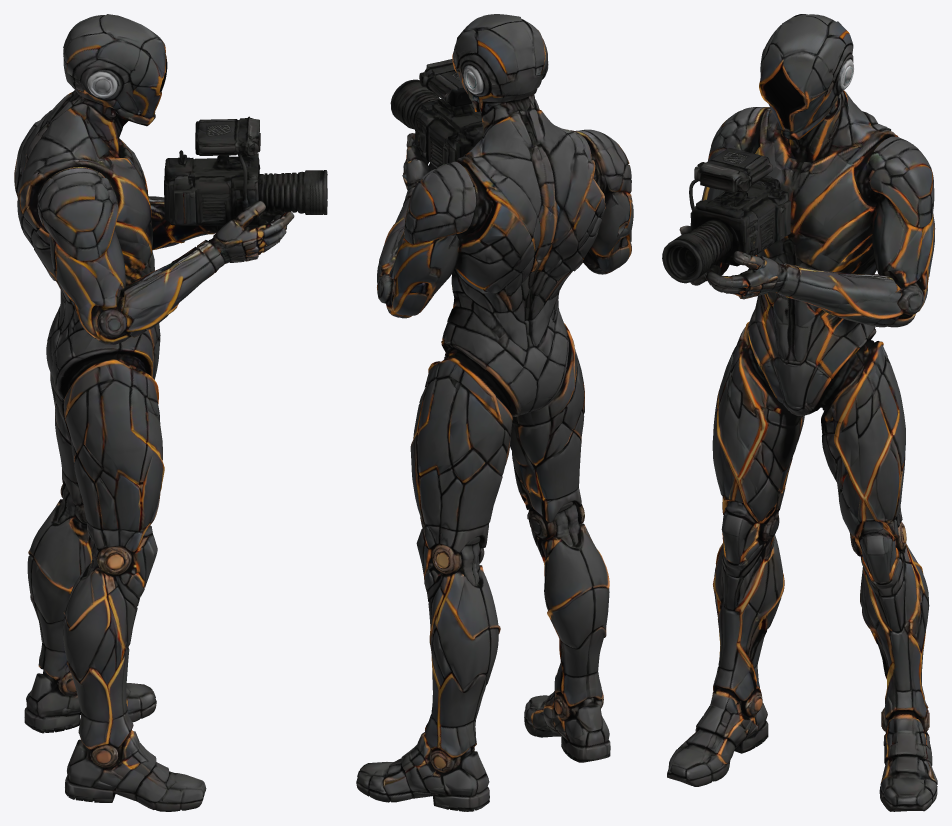
The model's file is robot.glb.
3 views of the same model, side by side, from view 1: azimuth 30°, elevation 25°; view 2: azimuth 150°, elevation 25°; view 3: azimuth 270°, elevation 25° (orthographic).
Parts seen in each view (by area): view 1: tripo_node_c093479b-0943-47e8-870f-589d47e6aa1c; view 2: tripo_node_c093479b-0943-47e8-870f-589d47e6aa1c; view 3: tripo_node_c093479b-0943-47e8-870f-589d47e6aa1c.
Part boxes in pixels (x1,y1,x2,y2): tripo_node_c093479b-0943-47e8-870f-589d47e6aa1c: (14, 14, 327, 811); tripo_node_c093479b-0943-47e8-870f-589d47e6aa1c: (356, 14, 633, 811); tripo_node_c093479b-0943-47e8-870f-589d47e6aa1c: (662, 14, 937, 811).
Size of the model in its own units: 0.3555 by 0.9795 by 0.3255.
1 material, 1 textured.
